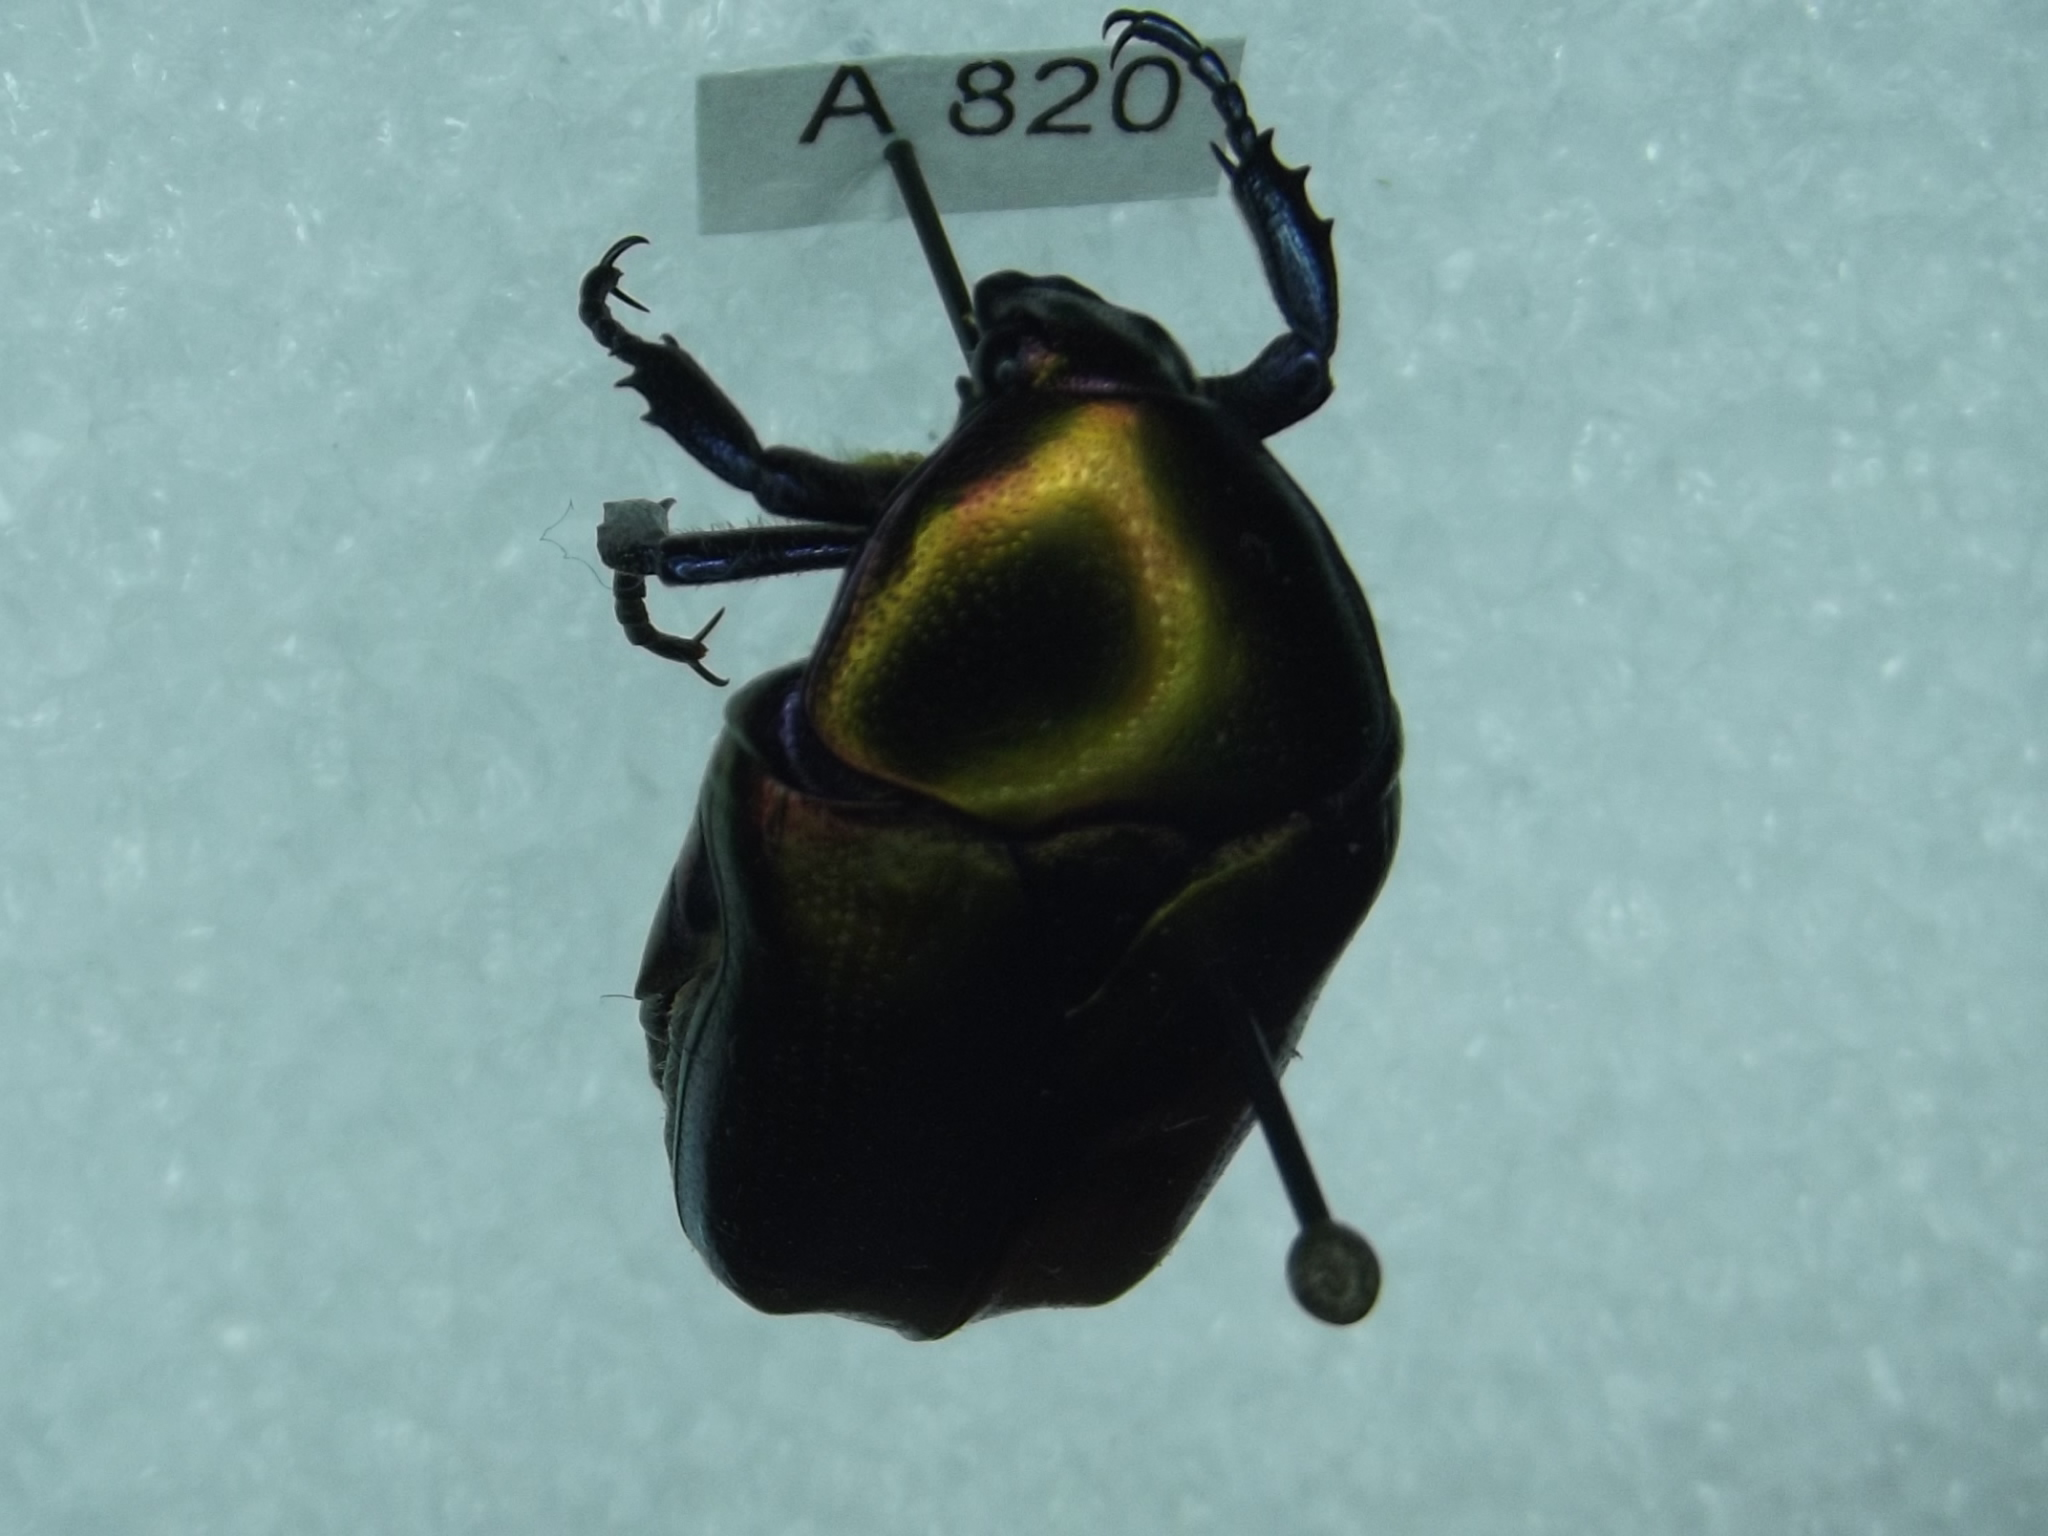Protaetia_cuprea_ignicollis: (539, 6, 1417, 1359)
